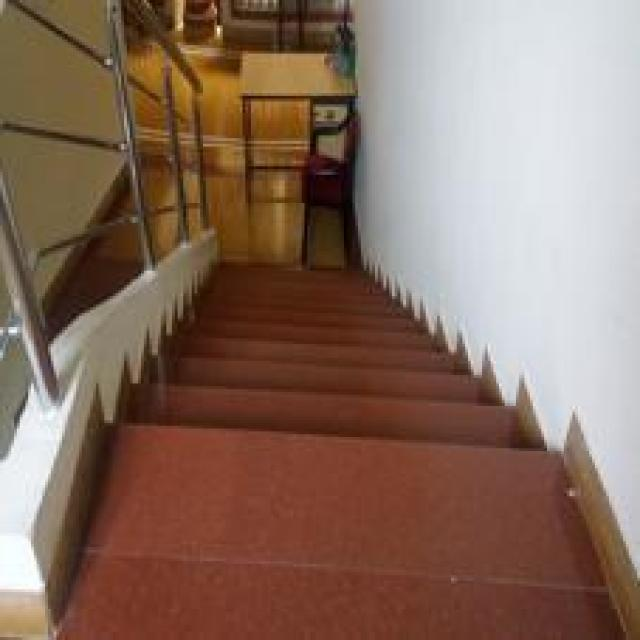downstair: (122, 291, 579, 486)
